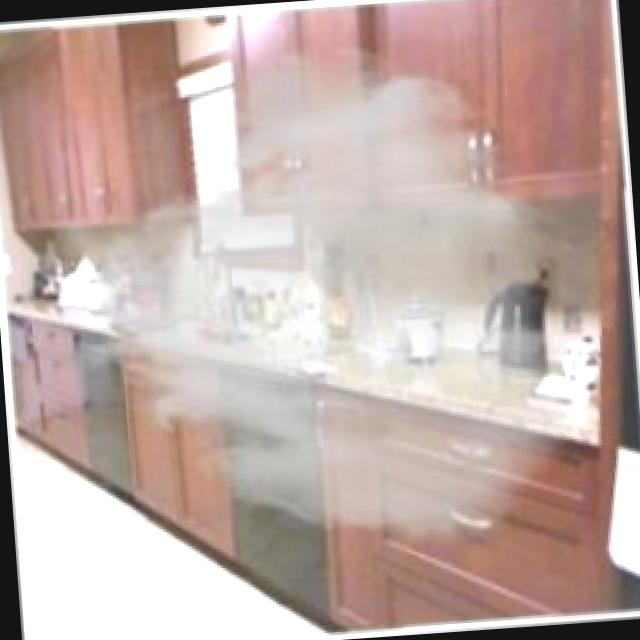smoke: (140, 128, 502, 472)
